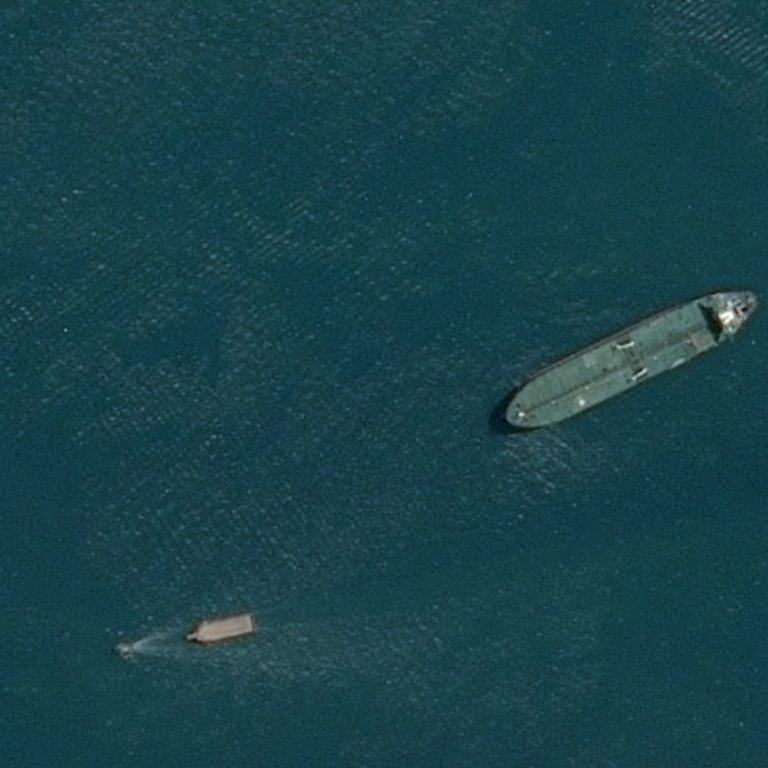ship: (486, 286, 757, 442), (185, 603, 257, 640), (734, 327, 740, 334), (692, 60, 697, 65), (507, 417, 511, 422), (194, 634, 199, 638), (234, 613, 238, 618), (14, 614, 18, 618)
